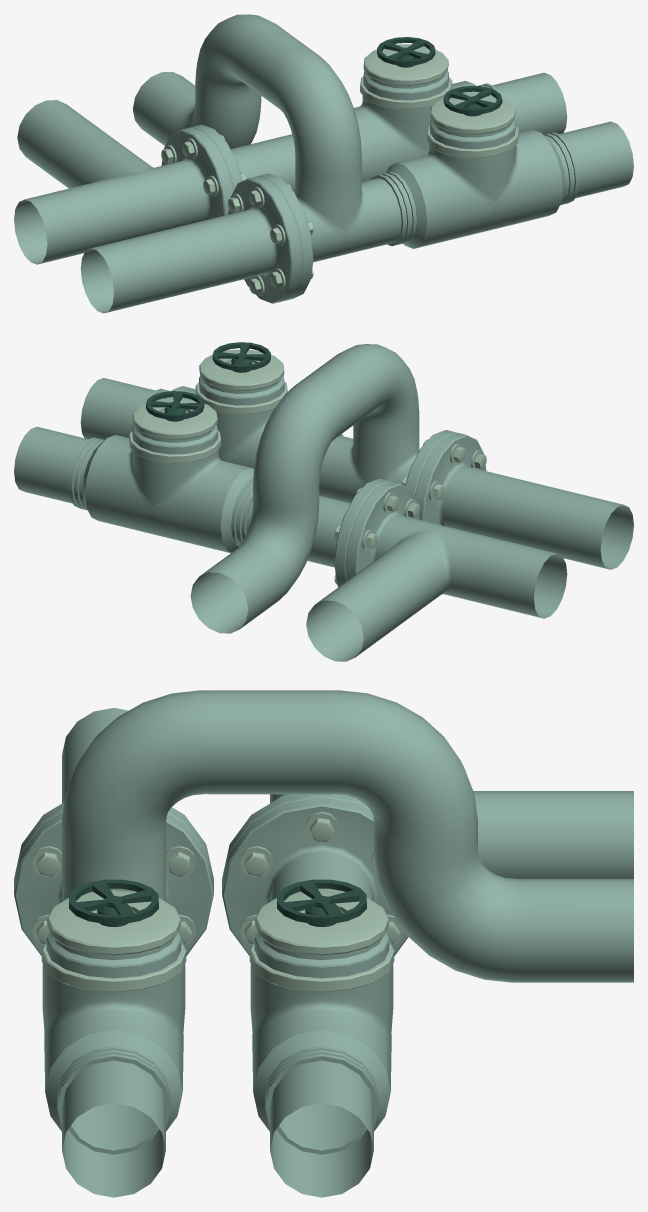
Rendered from PipeComplexLarge_A3_09.fbx.
3 renders of one model, top to bottom at view 1: azimuth 30°, elevation 25°; view 2: azimuth 150°, elevation 25°; view 3: azimuth 270°, elevation 25°, orthographic. The views are drawn at different scales.
Parts seen in each view (by area): view 1: PipeComplexLarge_A3_09.001; view 2: PipeComplexLarge_A3_09.001; view 3: PipeComplexLarge_A3_09.001.
Part boxes in pixels (x1,y1,x2,y2): PipeComplexLarge_A3_09.001: [14, 14, 633, 313]; PipeComplexLarge_A3_09.001: [14, 342, 633, 661]; PipeComplexLarge_A3_09.001: [14, 690, 633, 1197].
Size of the model in its own units: 1.8 by 0.6923 by 1.19.
